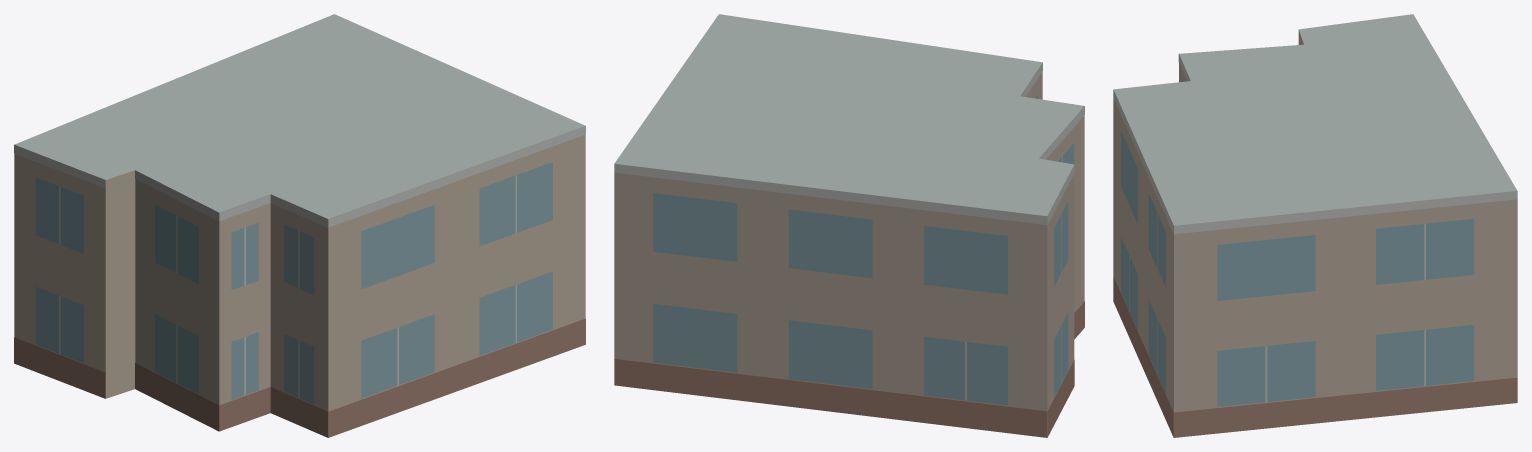
Rendered from survey-upis-32949445.glb.
3 renders of one model, left to right at view 1: azimuth 30°, elevation 25°; view 2: azimuth 150°, elevation 25°; view 3: azimuth 270°, elevation 25°, orthographic. The views are drawn at different scales.
Parts seen in each view (by area): view 1: survey-upis-32949445.tmp; view 2: survey-upis-32949445.tmp; view 3: survey-upis-32949445.tmp.
Boxes of the visible parts, x1,y1,x2,y2 form: survey-upis-32949445.tmp: (14, 14, 585, 437); survey-upis-32949445.tmp: (614, 14, 1084, 437); survey-upis-32949445.tmp: (1113, 14, 1517, 437).
Size of the model in its own units: 13.08 by 6.1 by 10.55.
